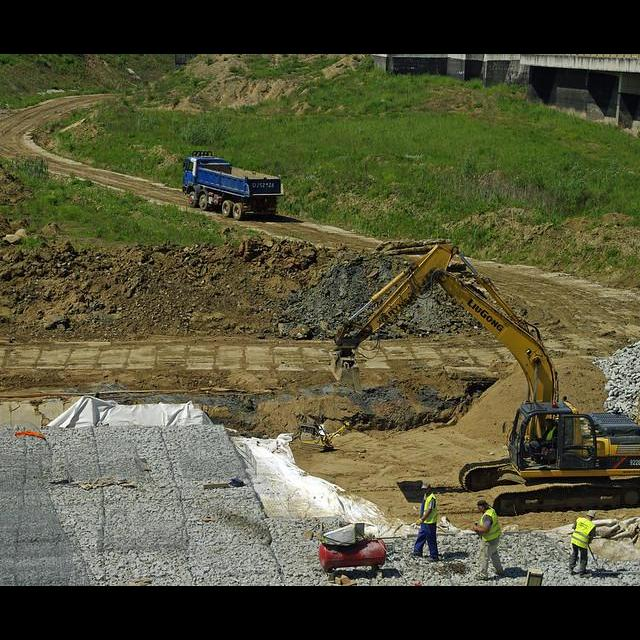Excavator: (329, 243, 640, 513)
Gloves: (414, 520, 423, 527)
Hardhat: (587, 509, 595, 516)
NO-Hardhat: (422, 481, 430, 489), (477, 499, 486, 504), (545, 418, 553, 423)
NO-Mask: (479, 509, 485, 513), (424, 491, 431, 494)
Person: (471, 499, 504, 580), (413, 481, 439, 560), (570, 509, 597, 576), (529, 418, 557, 453)
Safety Vest: (479, 509, 502, 542), (572, 518, 595, 547), (419, 494, 439, 524), (543, 428, 558, 441)
dump truck: (180, 149, 283, 219)
